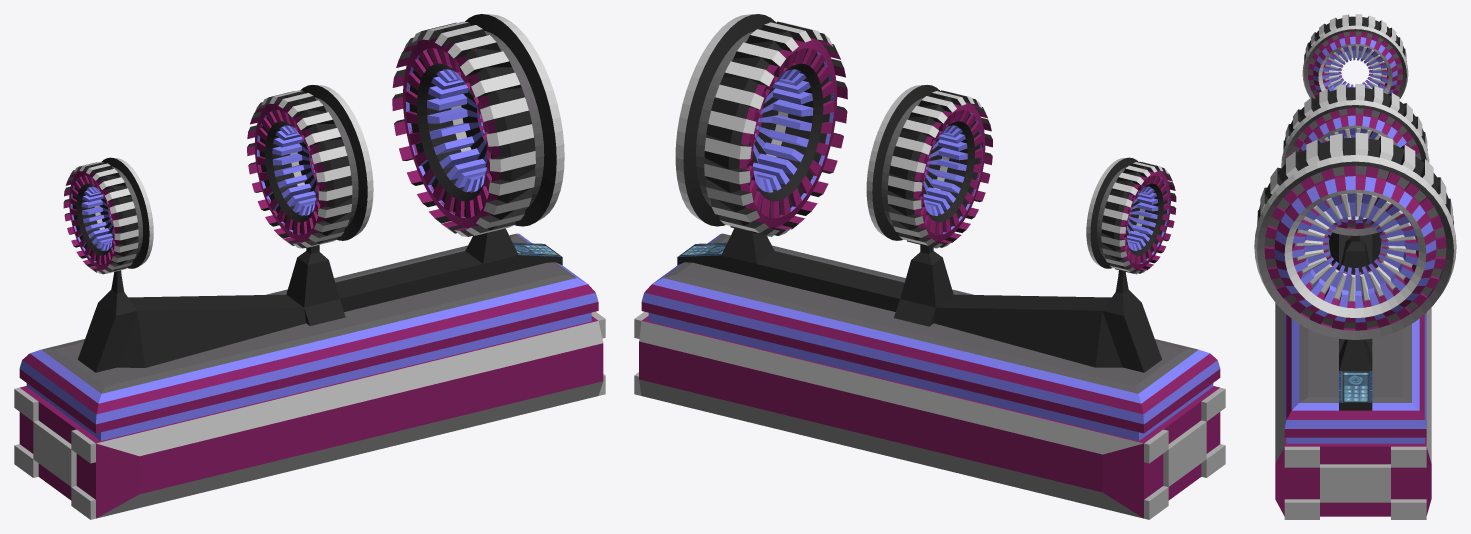
File: JumpDrive_Small.fbx
3 renders of one model, left to right at view 1: azimuth 30°, elevation 25°; view 2: azimuth 150°, elevation 25°; view 3: azimuth 270°, elevation 25°, orthographic. The views are drawn at different scales.
Visible parts, largest first — view 1: Cube; view 2: Cube; view 3: Cube.
Part boxes in pixels (x1=…): Cube: x1=14, y1=14, x2=605, y2=519; Cube: x1=634, y1=14, x2=1225, y2=519; Cube: x1=1254, y1=14, x2=1456, y2=519.
Size of the model in its own units: 1.48 by 0.9872 by 0.5397.
